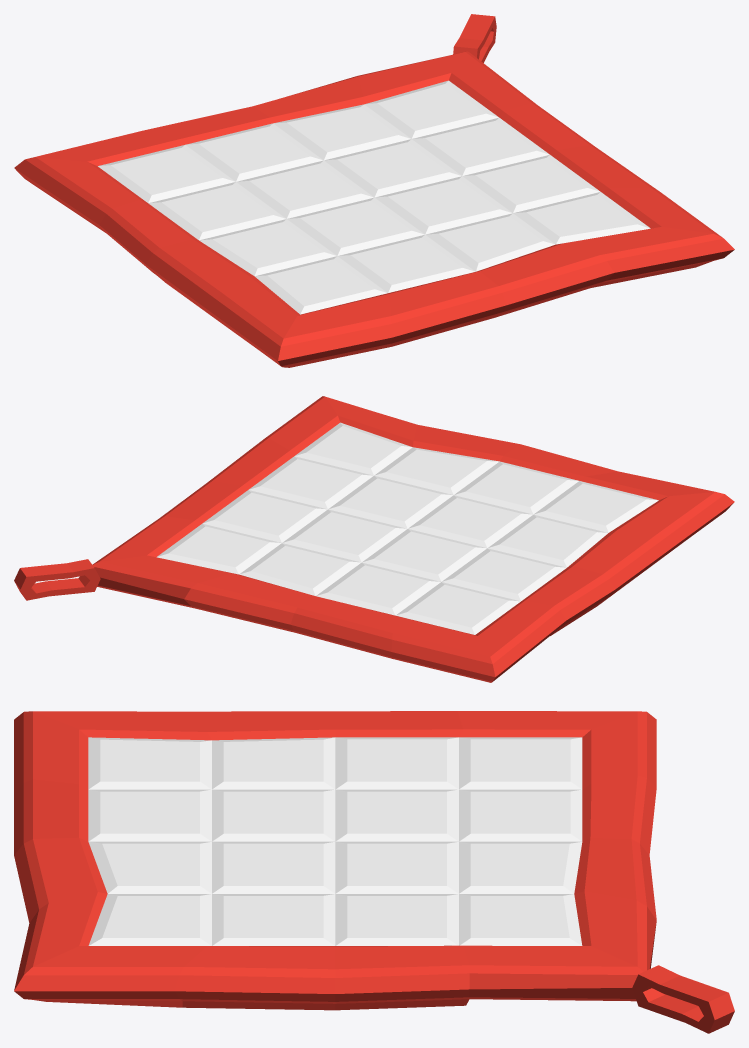
3 renders of one model, top to bottom at view 1: azimuth 30°, elevation 25°; view 2: azimuth 150°, elevation 25°; view 3: azimuth 270°, elevation 25°, orthographic. The views are drawn at different scales.
Parts seen in each view (by area): view 1: Potholder_01_Cube.027; view 2: Potholder_01_Cube.027; view 3: Potholder_01_Cube.027.
Boxes of the visible parts, x1,y1,x2,y2 form: Potholder_01_Cube.027: [14, 14, 734, 367]; Potholder_01_Cube.027: [14, 396, 734, 682]; Potholder_01_Cube.027: [14, 711, 734, 1033].
Bounding box in the file's own units: 9.06 × 0.7229 × 9.17.
